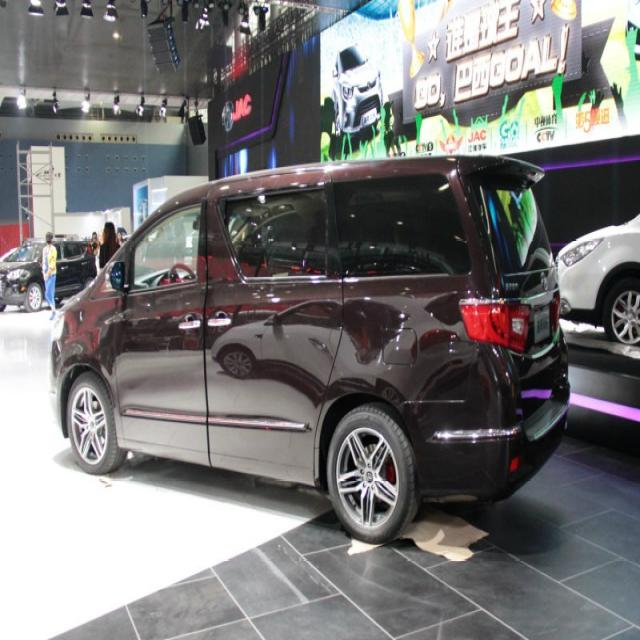back_glass: (467, 166, 556, 282)
back_left_side_light: (458, 296, 532, 351)
door: (210, 198, 348, 475)
front_left_side_door: (110, 197, 212, 456)
front_left_side_light: (51, 313, 67, 344)
front_left_side_mirror: (104, 257, 128, 296)
rear_bumper: (406, 337, 572, 495)
wheel: (326, 407, 412, 541), (68, 375, 122, 474)
